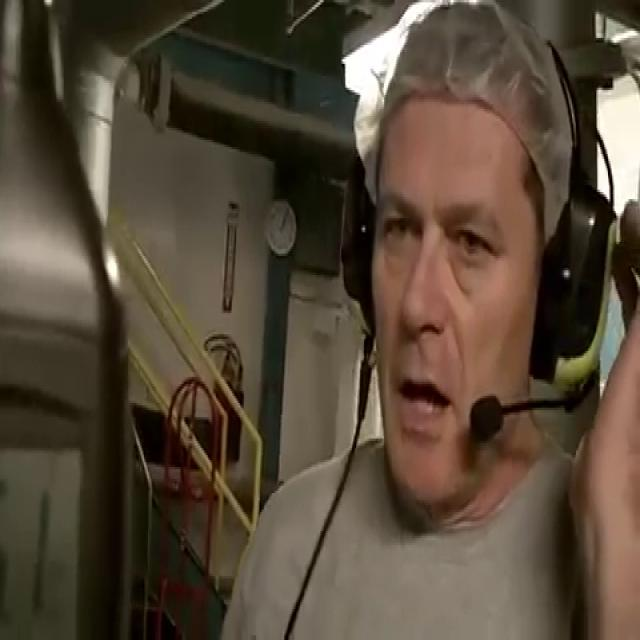earmuff: (528, 178, 620, 404), (340, 144, 381, 324)
